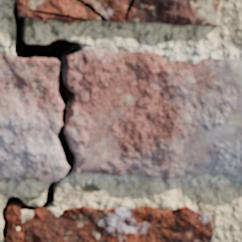brick: (4, 207, 211, 241), (129, 0, 219, 24), (16, 0, 99, 19), (85, 0, 129, 21), (26, 13, 75, 22)
broken_brick: (65, 48, 241, 183), (0, 53, 67, 182)
crack: (0, 2, 89, 239), (74, 0, 108, 21), (124, 0, 135, 22)
